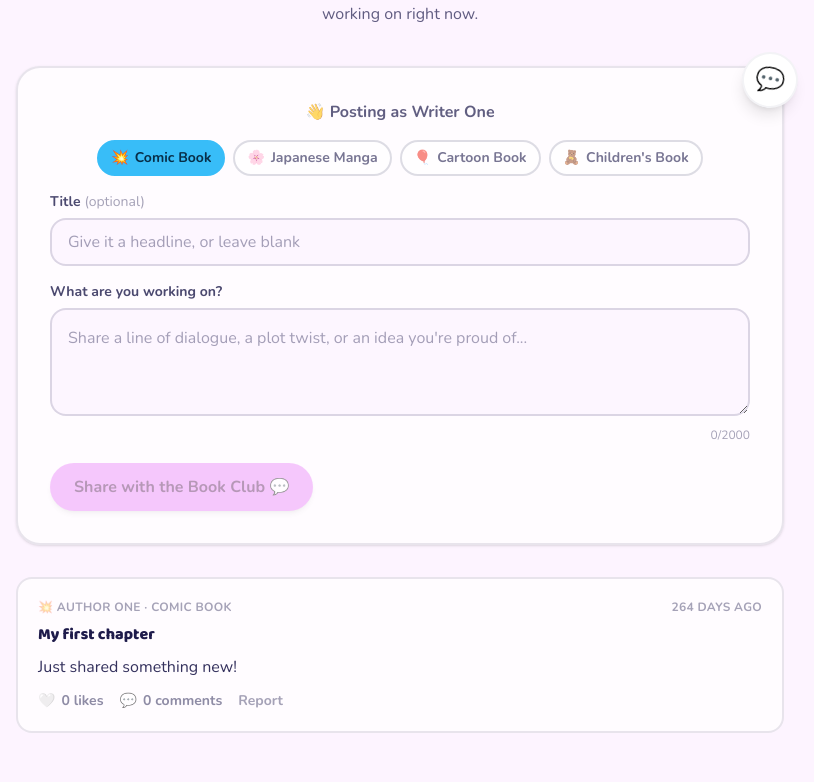
Test: Community › shows the real error when liking a post fails, instead of failing silently
(page scrolled)
Click the button "🤍 0 likes" at point(71, 701), box [38,691,104,711]
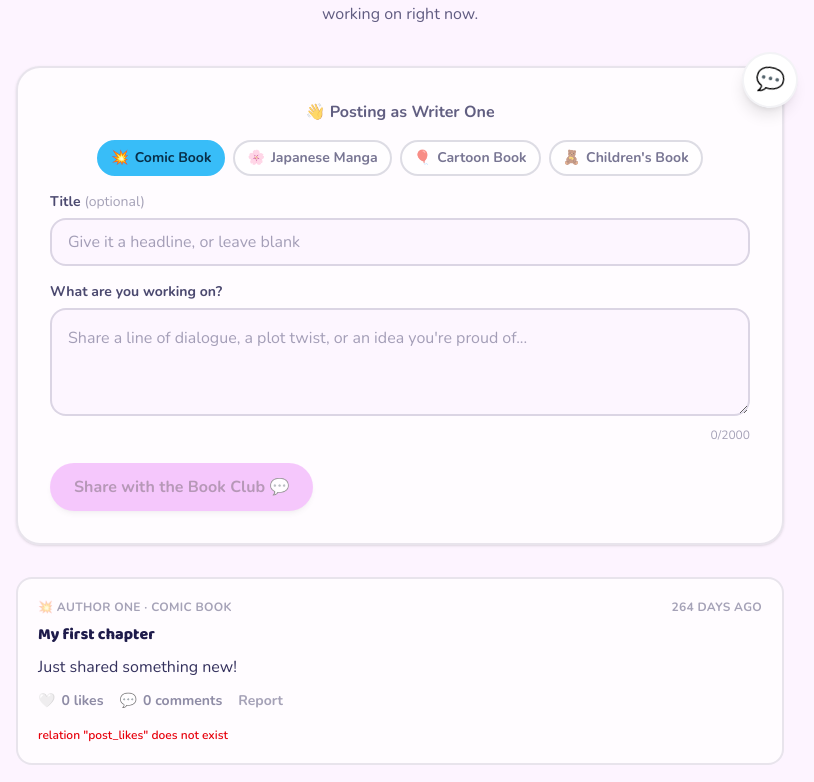
Expected: the message reads "relation \"post_likes\" does not exist", [38,727,228,743]
